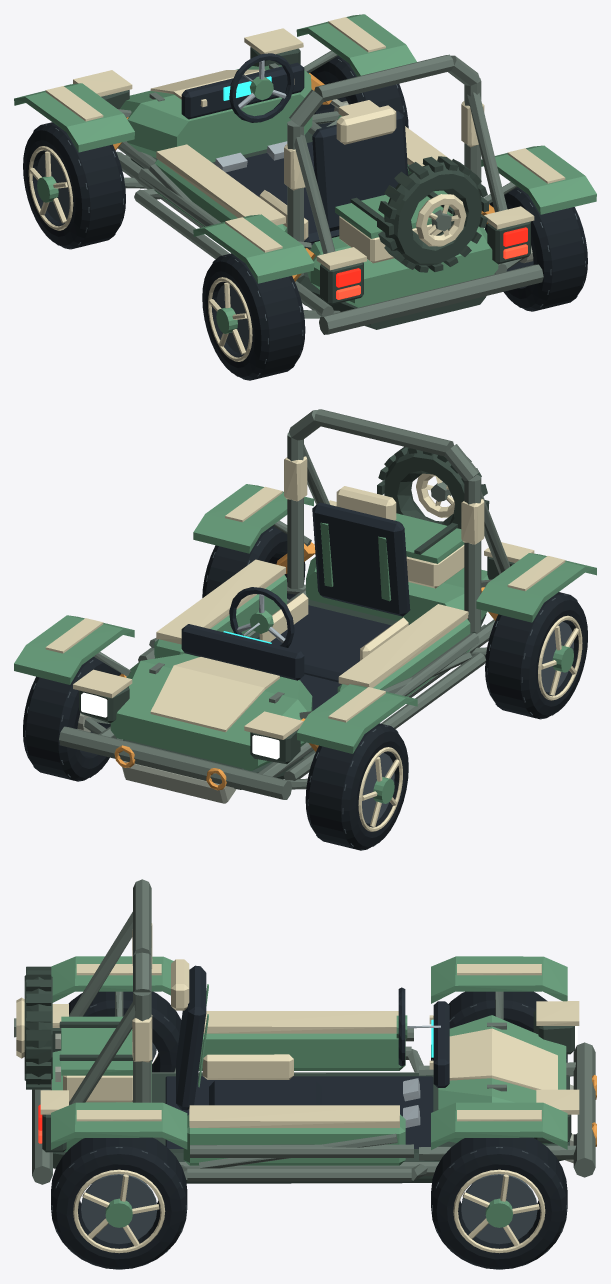
The model's file is rally_lod0.glb.
3 views of the same model, one above another, from view 1: azimuth 30°, elevation 25°; view 2: azimuth 150°, elevation 25°; view 3: azimuth 270°, elevation 25° (orthographic). The views are drawn at different scales.
Visible parts, largest first — view 1: body_mesh, wheel_rl, wheel_fl, wheel_rr, steering_wheel, wheel_fr, light_brake_mesh, light_tail_mesh; view 2: body_mesh, wheel_fl, wheel_rl, wheel_fr, wheel_rr, steering_wheel, light_head_mesh; view 3: body_mesh, wheel_rr, wheel_fr, wheel_rl, wheel_fl, steering_wheel.
Part boxes in pixels (bbox=[...]): body_mesh: bbox=[14, 14, 596, 334]; wheel_rl: bbox=[202, 253, 305, 380]; wheel_fl: bbox=[23, 122, 125, 249]; wheel_rr: bbox=[485, 187, 587, 311]; steering_wheel: bbox=[229, 53, 294, 122]; wheel_fr: bbox=[310, 55, 408, 128]; light_brake_mesh: bbox=[336, 227, 527, 287]; light_tail_mesh: bbox=[336, 244, 527, 299]; body_mesh: bbox=[14, 409, 596, 803]; wheel_fl: bbox=[305, 723, 408, 850]; wheel_rl: bbox=[485, 592, 587, 719]; wheel_fr: bbox=[23, 656, 121, 781]; wheel_rr: bbox=[202, 525, 305, 599]; steering_wheel: bbox=[229, 587, 294, 647]; light_head_mesh: bbox=[81, 692, 279, 759]; body_mesh: bbox=[14, 879, 596, 1184]; wheel_rr: bbox=[51, 1137, 187, 1269]; wheel_fr: bbox=[431, 1137, 567, 1269]; wheel_rl: bbox=[68, 991, 181, 1072]; wheel_fl: bbox=[431, 991, 567, 1062]; steering_wheel: bbox=[396, 987, 407, 1066].
Size of the model in its own units: 1.73 by 1.24 by 2.39.
